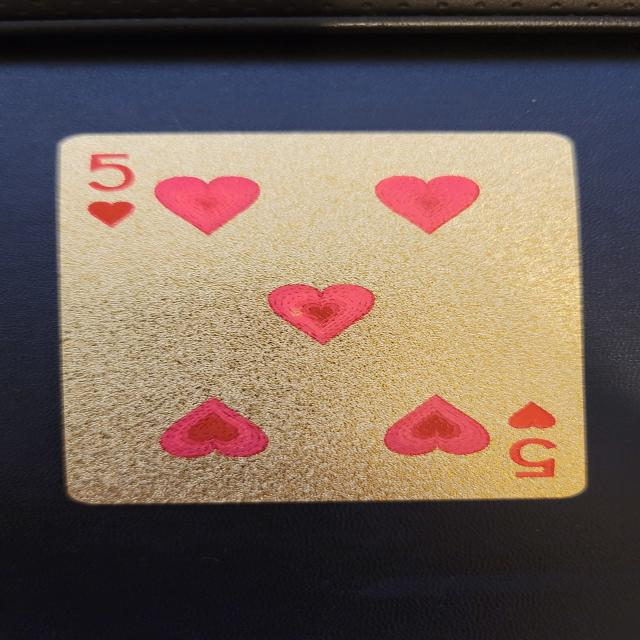5 of hearts: (55, 129, 590, 506)
